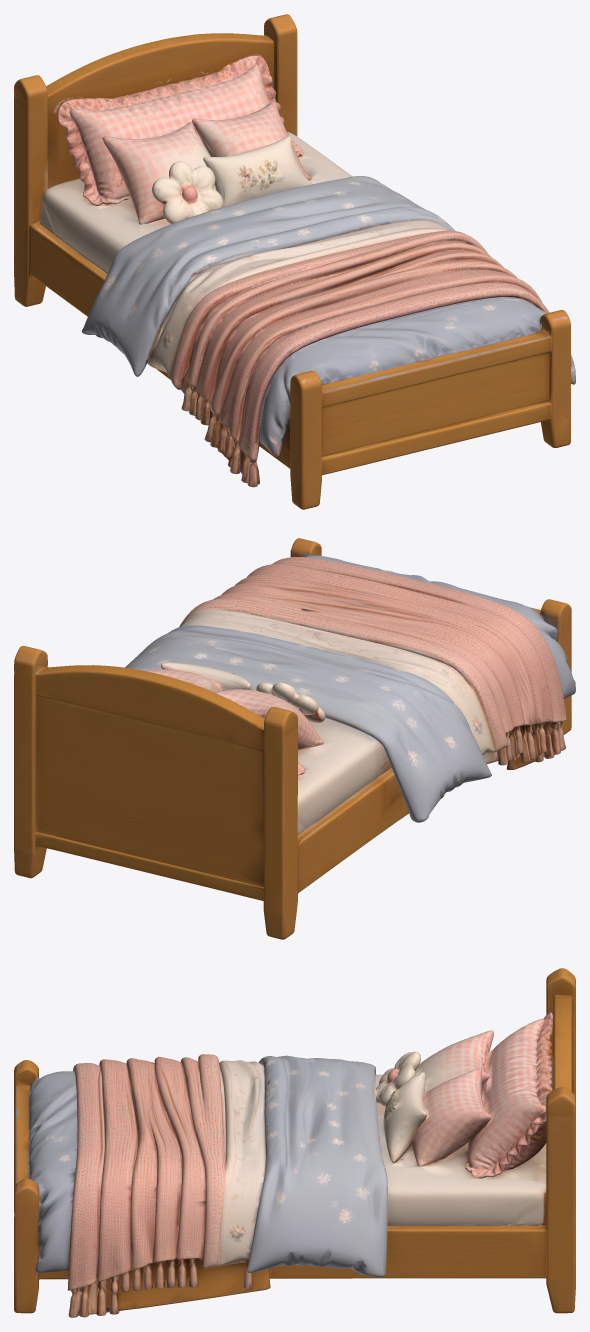
File: bed.glb
3 views of the same model, one above another, from view 1: azimuth 30°, elevation 25°; view 2: azimuth 150°, elevation 25°; view 3: azimuth 270°, elevation 25° (orthographic). The views are drawn at different scales.
Parts seen in each view (by area): view 1: node_0; view 2: node_0; view 3: node_0.
Part boxes in pixels (x1,y1,x2,y2): node_0: (14,14,575,509); node_0: (14,538,575,939); node_0: (14,968,575,1317).
Bounding box in the file's own units: 0.6904 × 0.4285 × 0.9877.
1 material, 1 textured.
